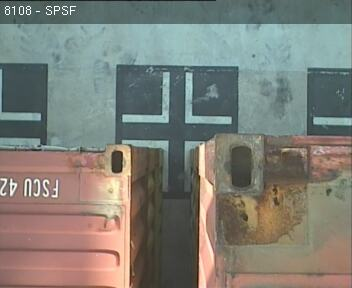groundmarker_1: (121, 72, 233, 123), (122, 140, 201, 190)
